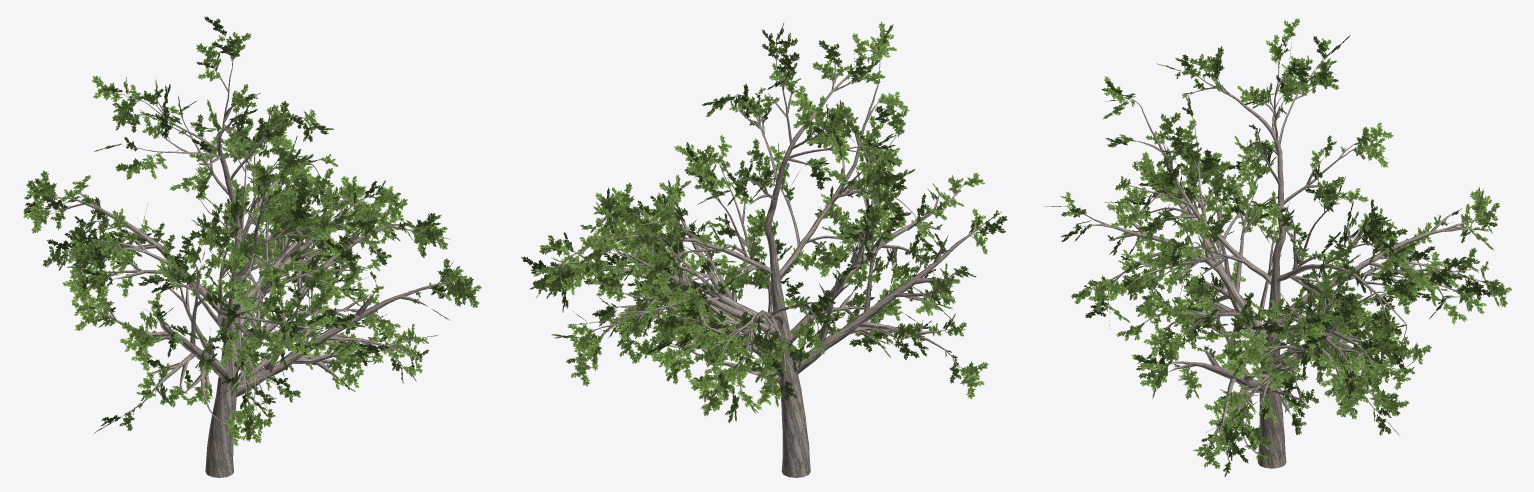
Rendered from OakVeteran.glb.
3 views of the same model, side by side, from view 1: azimuth 30°, elevation 25°; view 2: azimuth 150°, elevation 25°; view 3: azimuth 270°, elevation 25° (orthographic).
Parts seen in each view (by area): view 1: OakVeteran canopy, OakVeteran trunk; view 2: OakVeteran canopy, OakVeteran trunk; view 3: OakVeteran canopy, OakVeteran trunk.
Part boxes in pixels (bbox=[...]): OakVeteran canopy: bbox=[23, 16, 481, 445]; OakVeteran trunk: bbox=[41, 40, 451, 477]; OakVeteran canopy: bbox=[521, 21, 1007, 423]; OakVeteran trunk: bbox=[548, 44, 988, 477]; OakVeteran canopy: bbox=[1044, 18, 1511, 476]; OakVeteran trunk: bbox=[1075, 47, 1480, 468].
Size of the model in its own units: 17.15 by 18.5 by 17.77.
Materials: 2 (2 with a texture image).
